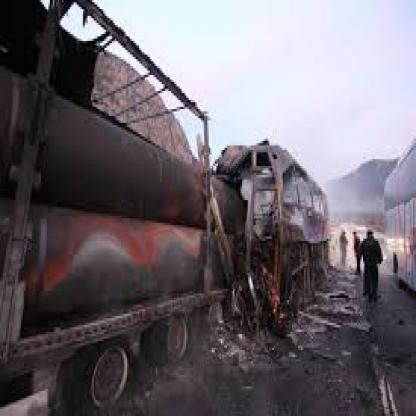accident: (2, 4, 244, 394), (212, 140, 395, 330)
